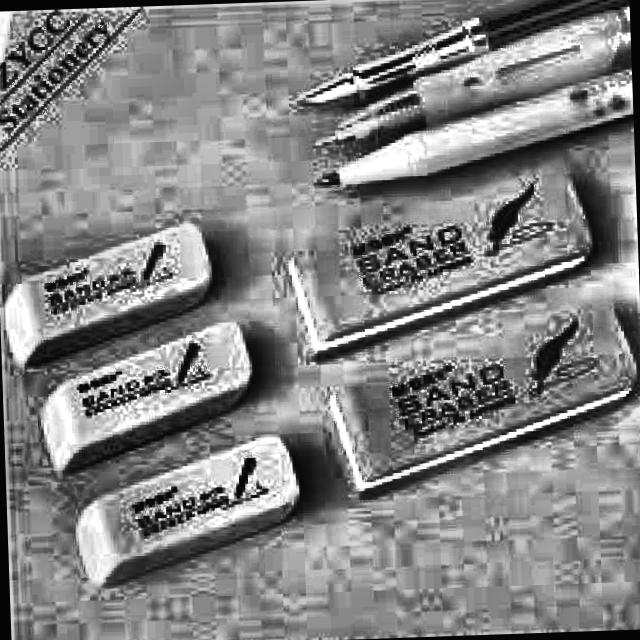Pen: (319, 10, 631, 149)
eraser: (321, 295, 638, 503), (3, 223, 220, 370)
